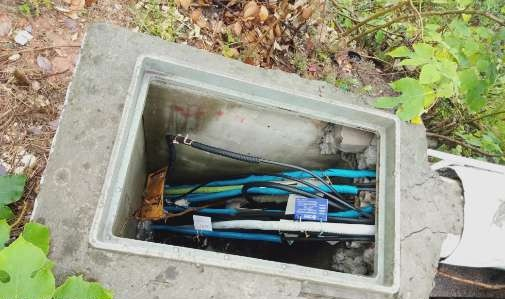lose: (88, 55, 401, 295)
